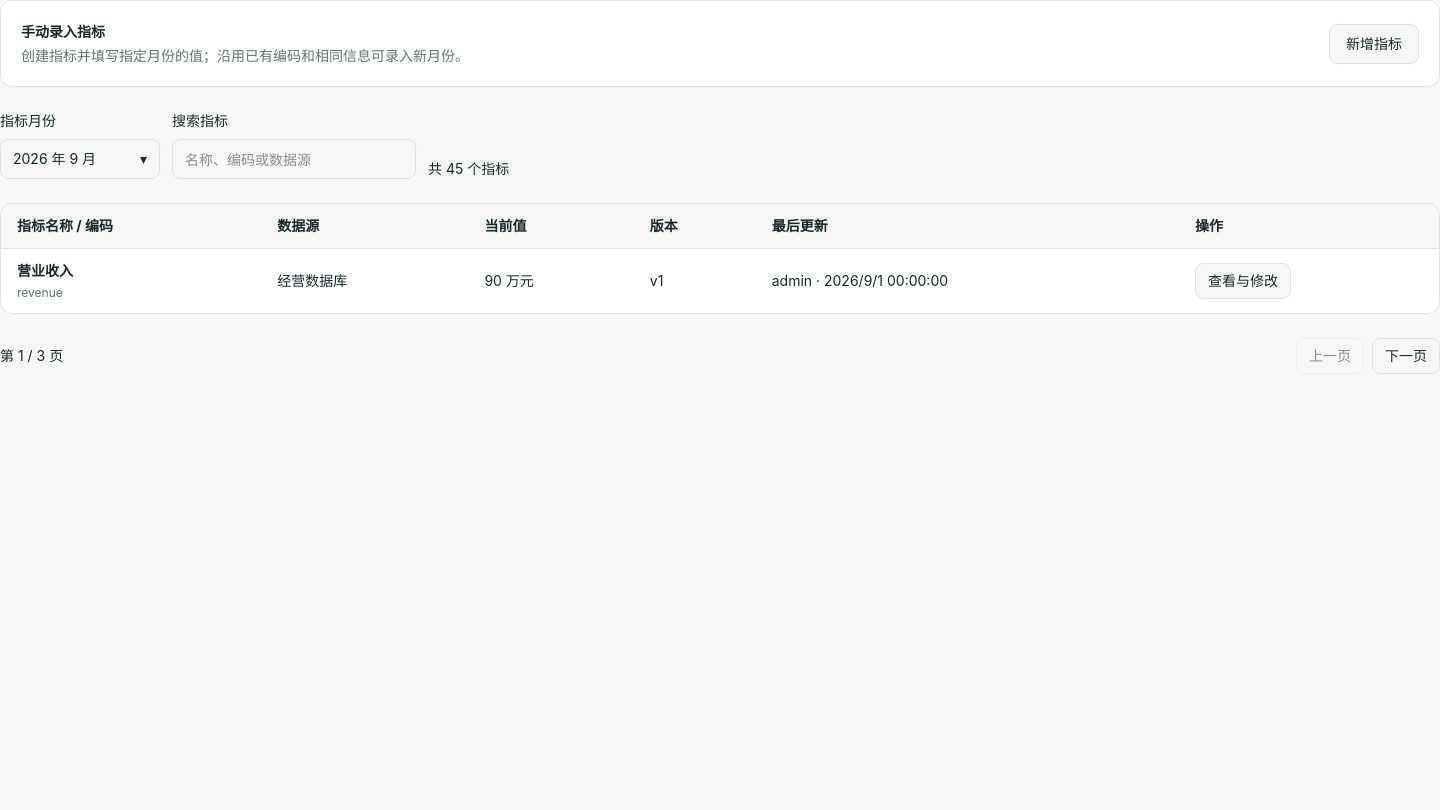
Test case: metric manager month loading › loads the initial month and automatically refreshes after switching months
This screenshot has width=1440, height=810.
Expected: the cell "90 万元" is shown, 468,248 -> 634,313
Expected: the table is shown, 1,204 -> 1439,313
Click the button named "指标月份" at (80, 159), box 0,139 -> 160,179
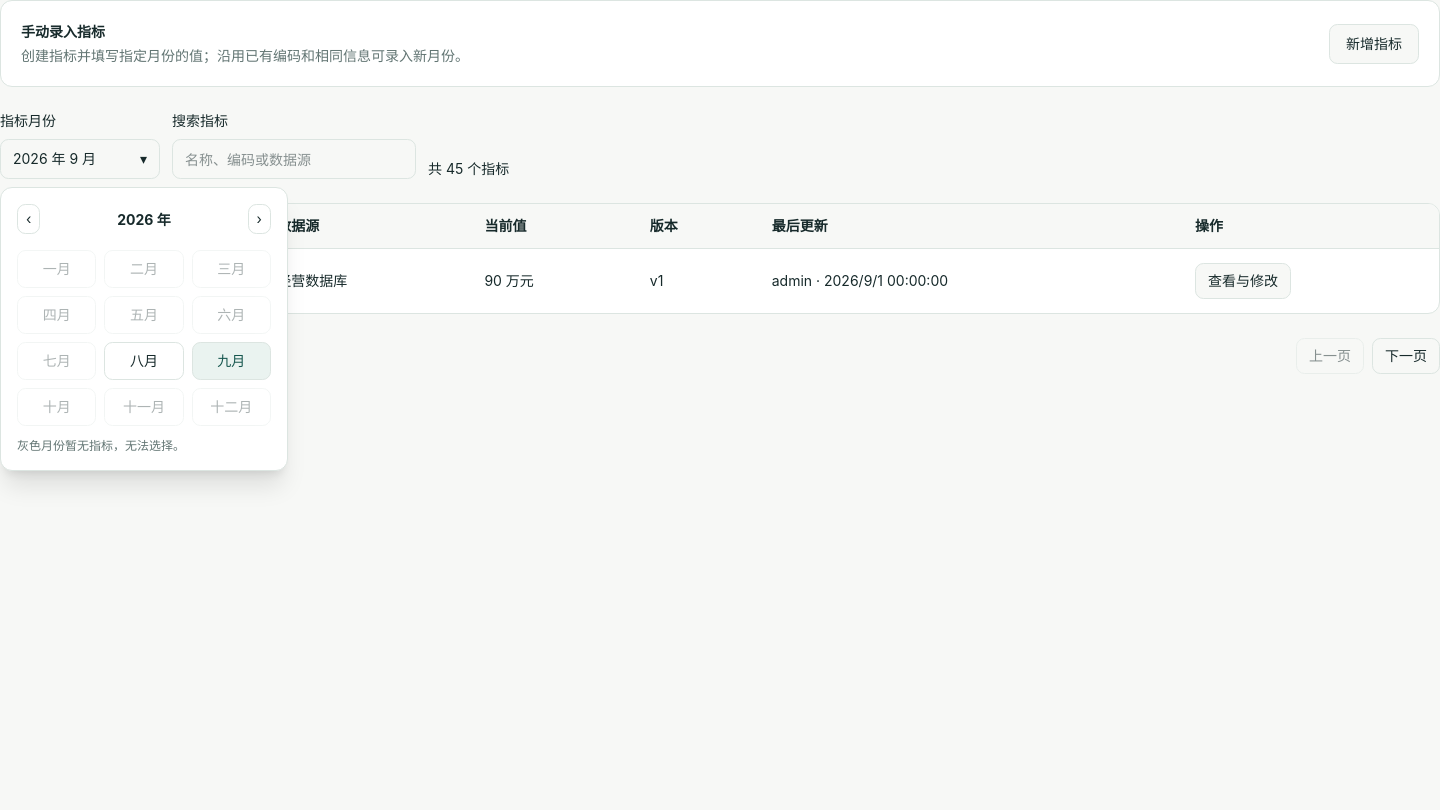
Click the button with aria-label "2026年8月" at (144, 361), box 104,342 -> 184,380
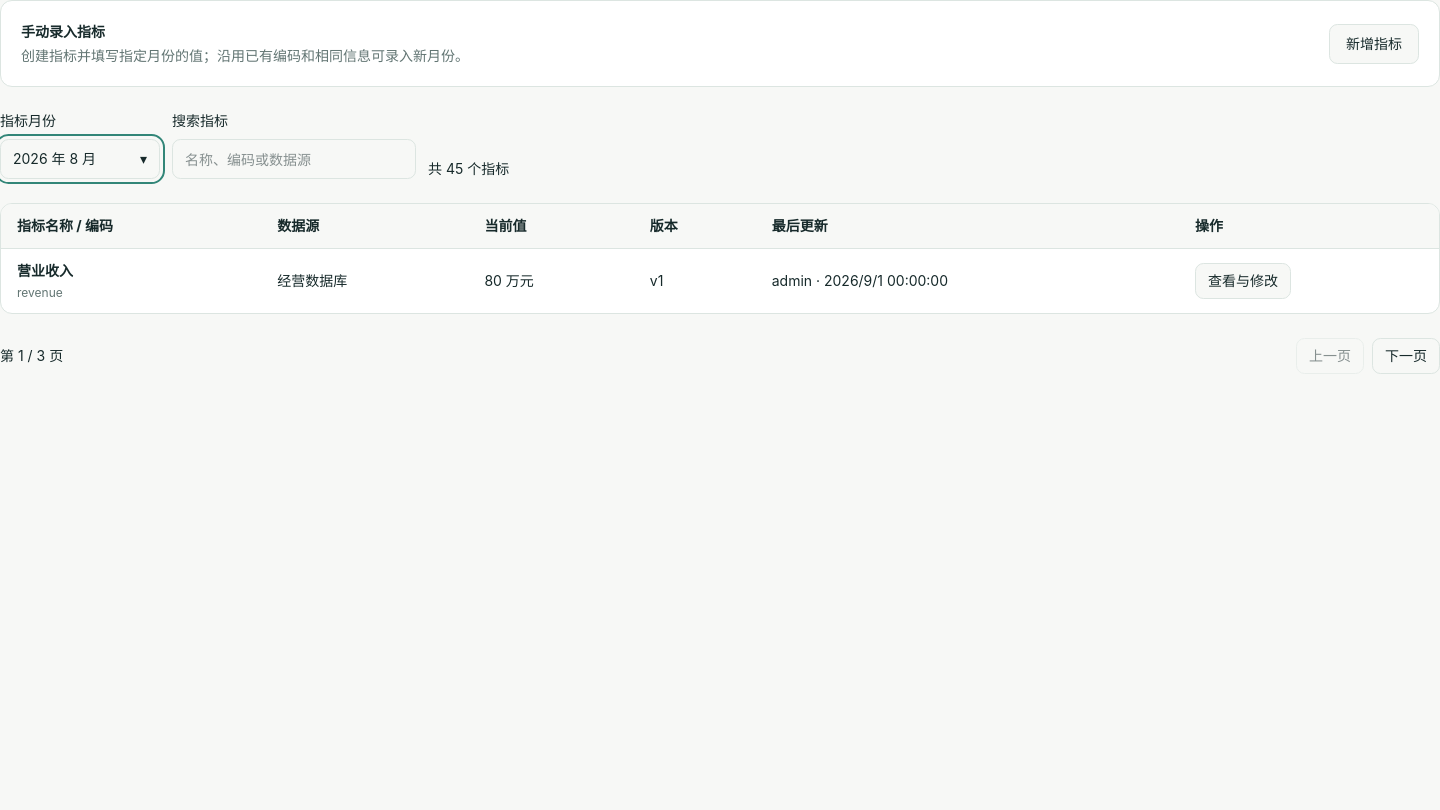
Expected: the cell "80 万元" is shown, 468,248 -> 634,313
Click the button "下一页" at (1406, 356), box 1372,338 -> 1439,374
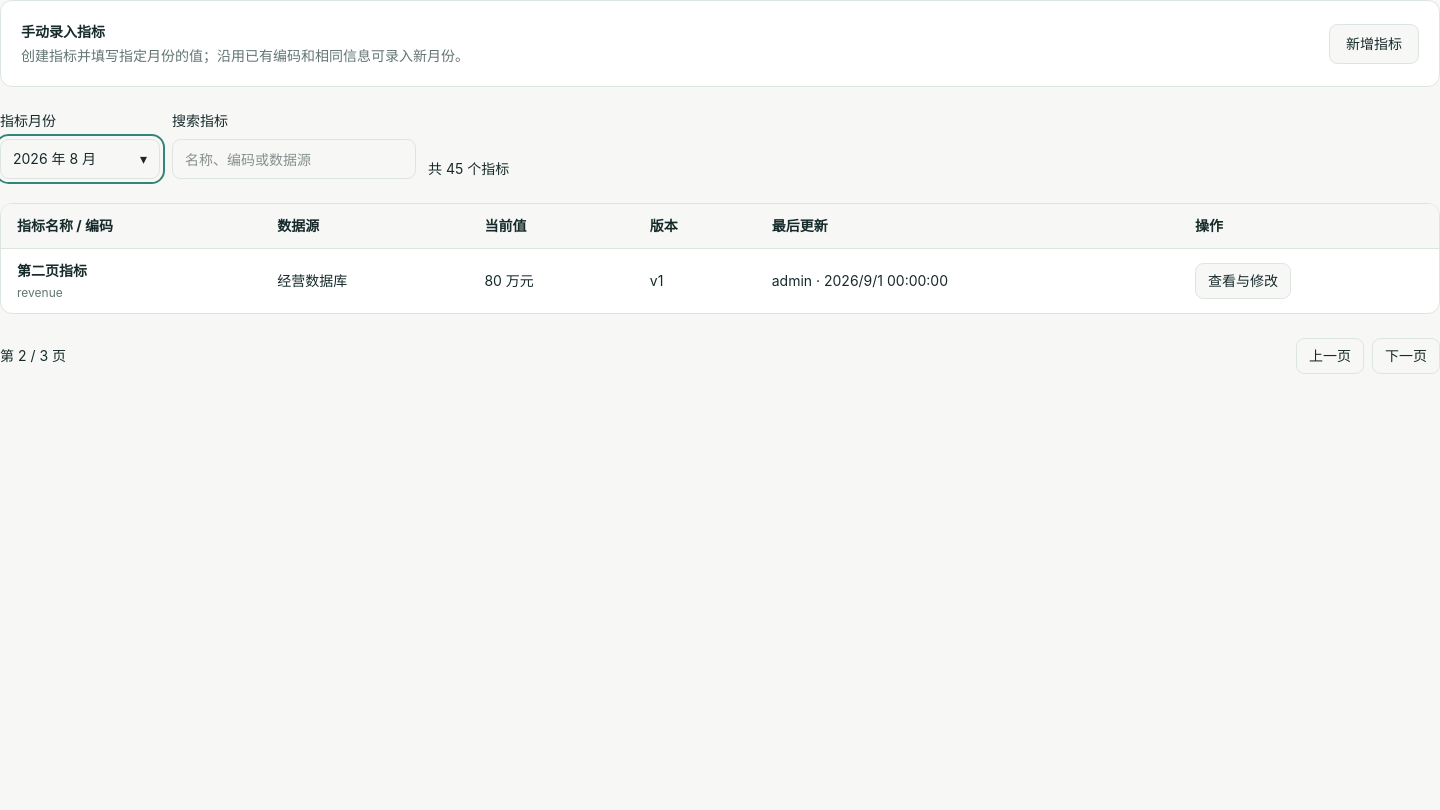
Expected: the text "第二页指标" is shown, 17,262 -> 87,279
Expected: the text "第 2 / 3 页" is shown, 0,346 -> 66,366
Type "利润" into the search field labelled "搜索指标" at (294, 159), box 172,139 -> 416,179
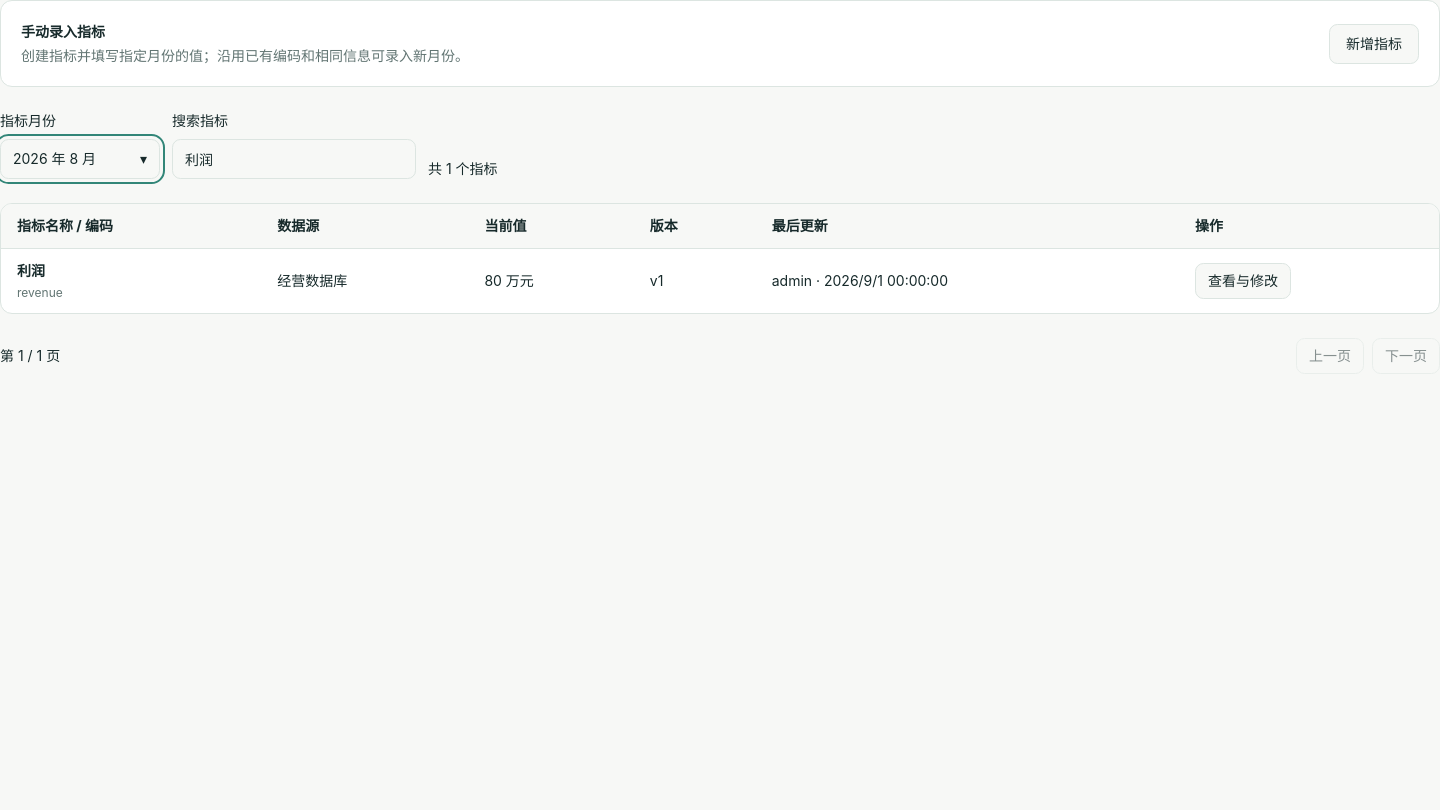
Expected: the text "利润" is shown, 17,262 -> 45,279
Expected: the text "第 1 / 1 页" is shown, 0,346 -> 60,366
Click the button "查看与修改" at (1243, 281), box 1195,263 -> 1291,299
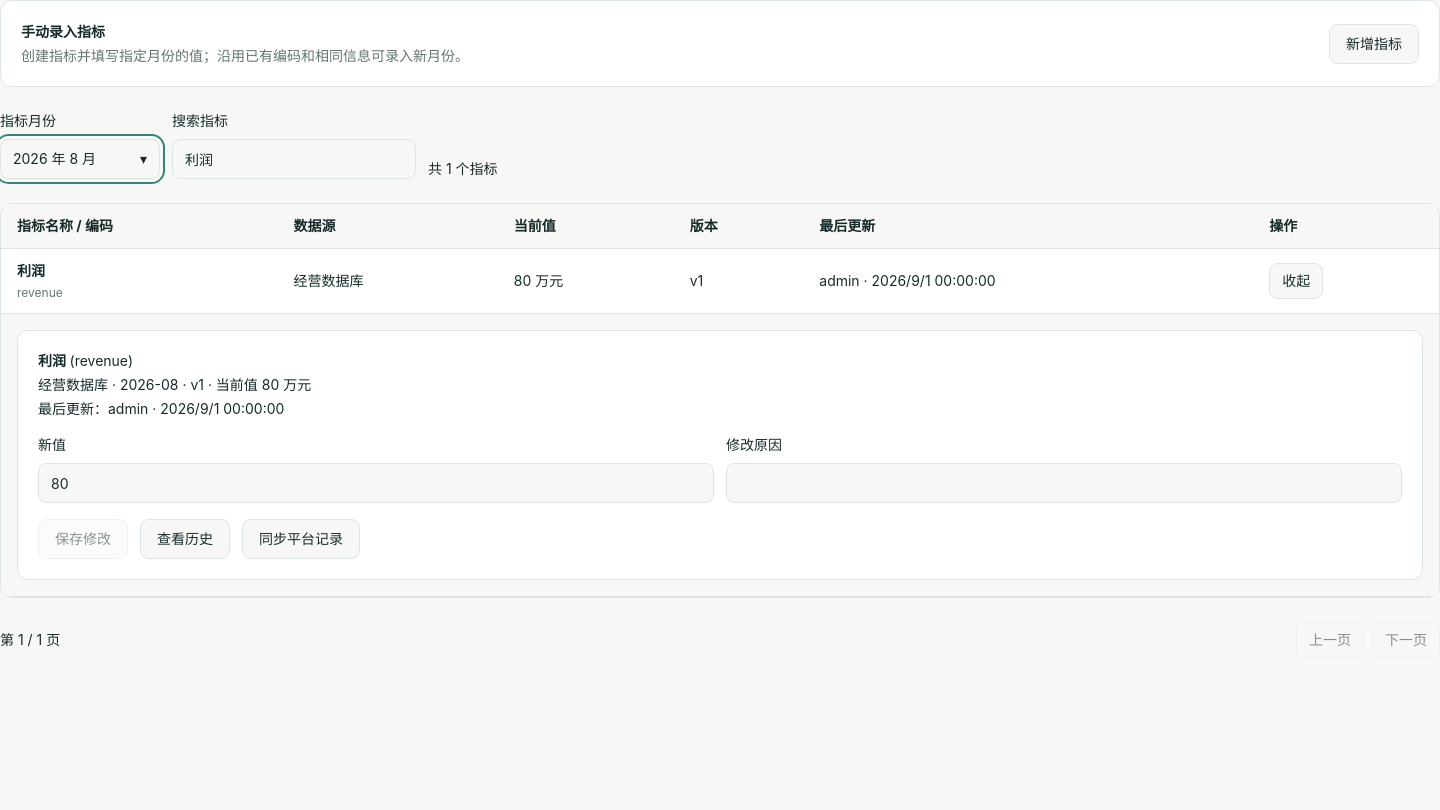
Expected: the button "查看历史" is shown, 140,519 -> 230,559
